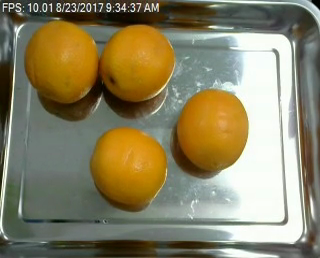Orange: (24, 20, 98, 103), (90, 127, 167, 206), (100, 24, 176, 102), (177, 89, 249, 170)
